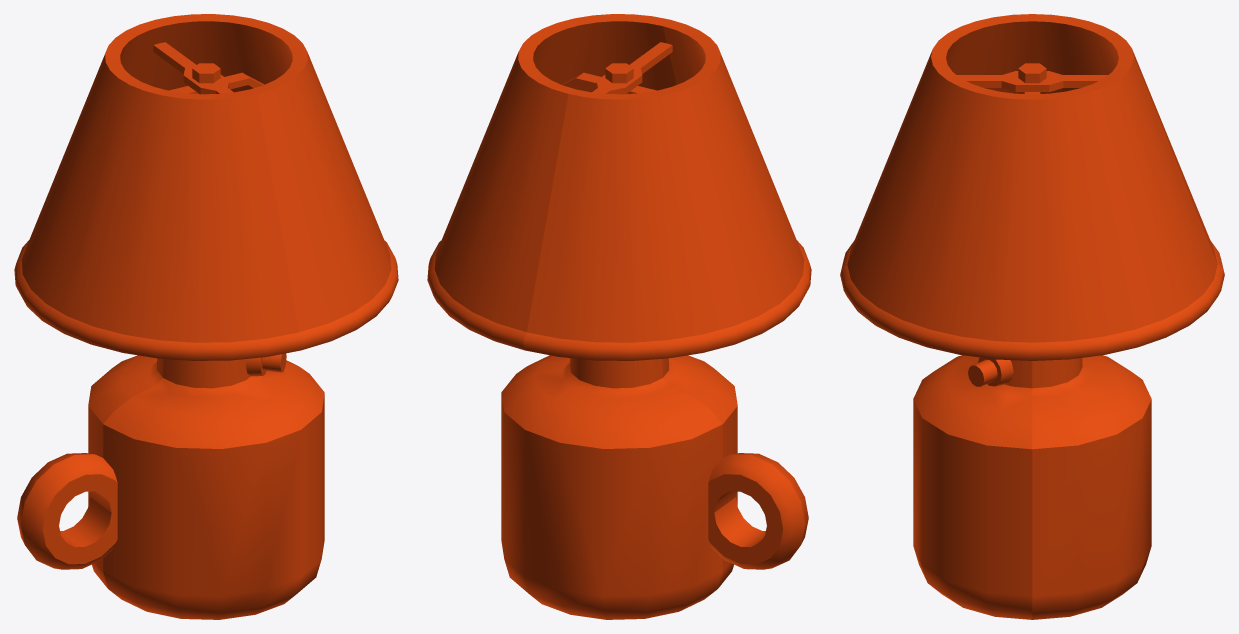
The model's file is obj_rewards_tablelamp.fbx.
The picture shows the model from 3 angles, left to right: view 1: azimuth 30°, elevation 25°; view 2: azimuth 150°, elevation 25°; view 3: azimuth 270°, elevation 25°; orthographic projection.
Visible parts, largest first — view 1: part07_lp.003, part08_lp.003, part06_lp.003, part02_lp.003, part01_lp.003, part04_lp.003; view 2: part07_lp.003, part08_lp.003, part06_lp.003, part02_lp.003, part01_lp.003, part04_lp.003; view 3: part07_lp.003, part08_lp.003, part02_lp.003, part11_lp.003, part04_lp.003.
Part boxes in pixels (bbox=[...]): part07_lp.003: bbox=[14, 14, 398, 360]; part08_lp.003: bbox=[88, 355, 324, 619]; part06_lp.003: bbox=[17, 453, 117, 569]; part02_lp.003: bbox=[153, 42, 233, 94]; part01_lp.003: bbox=[169, 72, 264, 93]; part04_lp.003: bbox=[192, 63, 220, 83]; part07_lp.003: bbox=[427, 14, 811, 360]; part08_lp.003: bbox=[501, 355, 737, 619]; part06_lp.003: bbox=[708, 453, 808, 569]; part02_lp.003: bbox=[592, 42, 672, 94]; part01_lp.003: bbox=[561, 72, 656, 93]; part04_lp.003: bbox=[605, 63, 633, 83]; part07_lp.003: bbox=[840, 14, 1224, 360]; part08_lp.003: bbox=[913, 355, 1151, 619]; part02_lp.003: bbox=[957, 71, 1107, 91]; part11_lp.003: bbox=[968, 359, 997, 386]; part04_lp.003: bbox=[1018, 63, 1046, 83].
Bounding box in the file's own units: 2.1 × 3 × 1.99.
